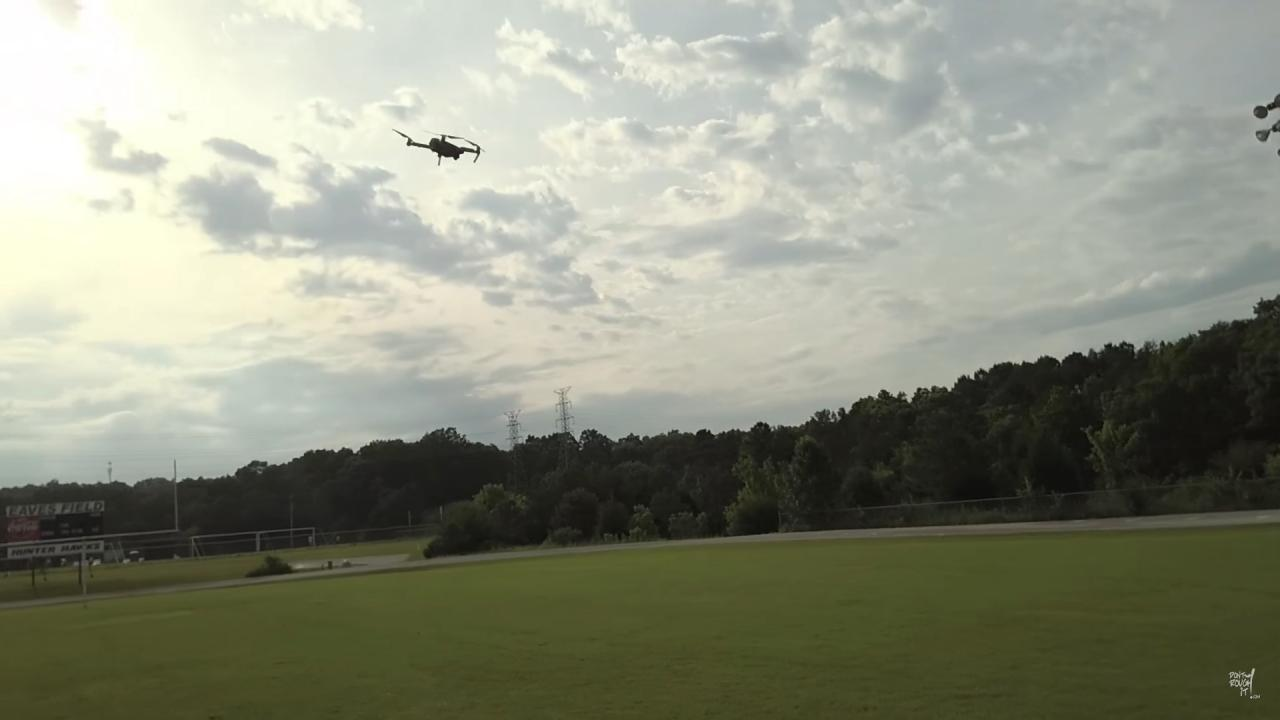Drone: (385, 113, 497, 179)
